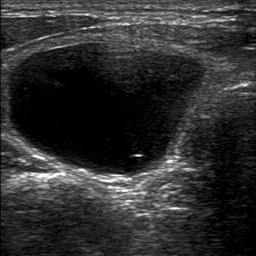mass: (10, 42, 205, 179)
